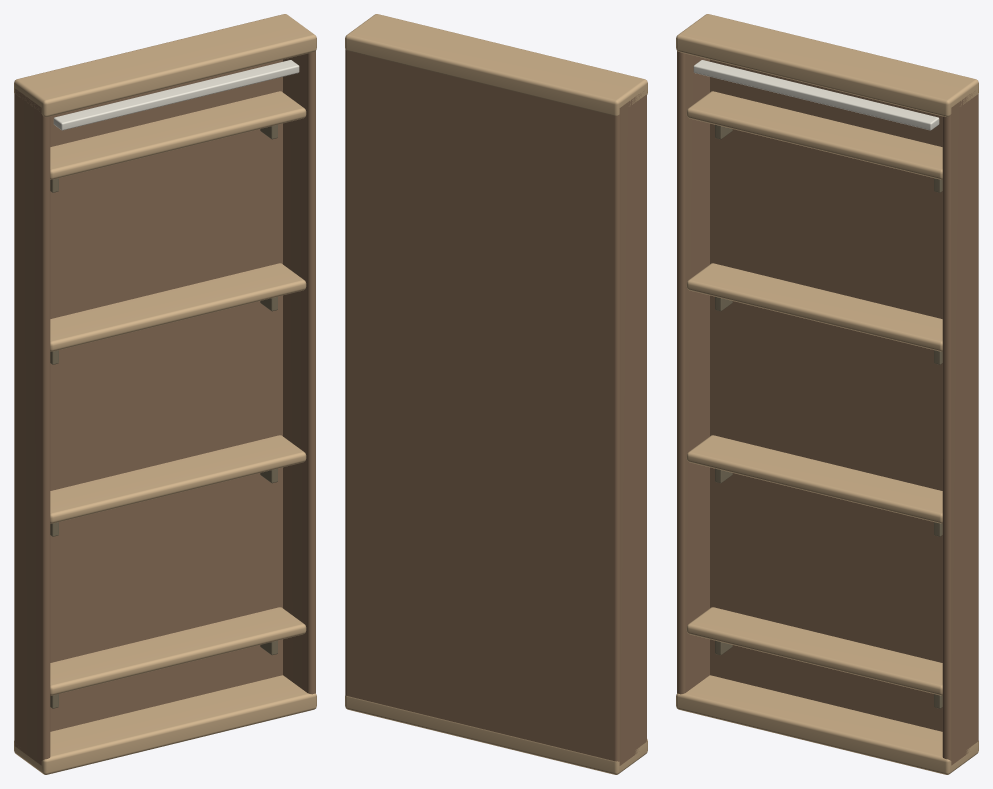
File: wall_home_narrow.glb
The picture shows the model from 3 angles, left to right: view 1: azimuth 30°, elevation 25°; view 2: azimuth 150°, elevation 25°; view 3: azimuth 330°, elevation 25°; orthographic projection.
Visible parts, largest first — view 1: Closed back, seated against existing opaque boundary, Outer stile, Outer stile.001, Bottom / crown.001, Bottom / crown, Load-bearing shelf.002, Load-bearing shelf.001, Load-bearing shelf.003, Load-bearing shelf, Integrated light diffuser; view 2: Closed back, seated against existing opaque boundary, Outer stile, Bottom / crown.001, Bottom / crown; view 3: Closed back, seated against existing opaque boundary, Outer stile.001, Outer stile, Bottom / crown.001, Bottom / crown, Load-bearing shelf.002, Load-bearing shelf.001, Load-bearing shelf.003, Load-bearing shelf, Integrated light diffuser.
Part boxes in pixels (x1,y1,x2,y2): Closed back, seated against existing opaque boundary: (14, 59, 282, 745); Outer stile: (15, 89, 50, 765); Outer stile.001: (283, 51, 315, 694); Bottom / crown.001: (14, 14, 316, 116); Bottom / crown: (14, 675, 316, 774); Load-bearing shelf.002: (50, 263, 306, 351); Load-bearing shelf.001: (50, 435, 306, 523); Load-bearing shelf.003: (50, 91, 306, 179); Load-bearing shelf: (50, 607, 306, 695); Integrated light diffuser: (53, 60, 299, 130); Closed back, seated against existing opaque boundary: (345, 49, 620, 765); Outer stile: (620, 91, 646, 765); Bottom / crown.001: (345, 14, 647, 115); Bottom / crown: (345, 695, 647, 774); Closed back, seated against existing opaque boundary: (710, 59, 978, 741); Outer stile.001: (942, 91, 977, 765); Outer stile: (677, 51, 709, 694); Bottom / crown.001: (676, 14, 978, 116); Bottom / crown: (676, 675, 978, 774); Load-bearing shelf.002: (686, 263, 942, 351); Load-bearing shelf.001: (686, 435, 942, 523); Load-bearing shelf.003: (686, 91, 942, 179); Load-bearing shelf: (686, 607, 942, 695); Integrated light diffuser: (693, 60, 939, 130).
Bounding box in the file's own units: 1 × 2.36 × 0.2.
